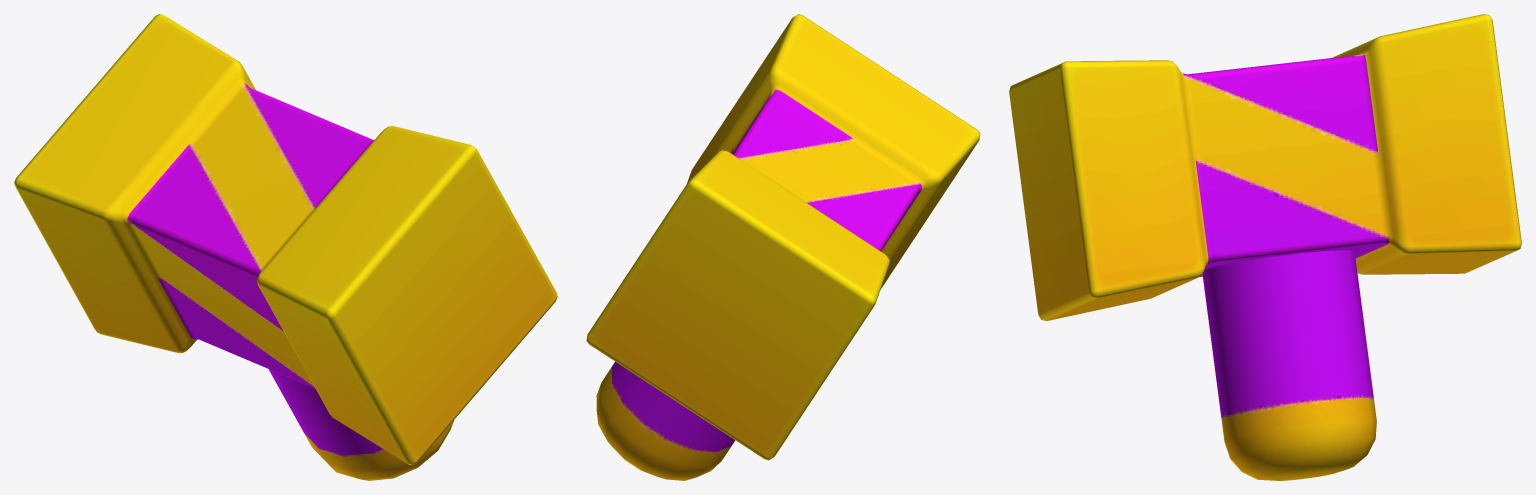
The model's file is Hammer.fbx.
3 renders of one model, left to right at view 1: azimuth 30°, elevation 25°; view 2: azimuth 150°, elevation 25°; view 3: azimuth 270°, elevation 25°, orthographic. The views are drawn at different scales.
Parts seen in each view (by area): view 1: hammer; view 2: hammer; view 3: hammer.
Boxes of the visible parts, bbox=[...] form: hammer: bbox=[14, 14, 557, 480]; hammer: bbox=[586, 14, 980, 480]; hammer: bbox=[1009, 14, 1521, 480].
Bounding box in the file's own units: 1.36 × 1.45 × 1.65.
Materials: 1 (1 with a texture image).
